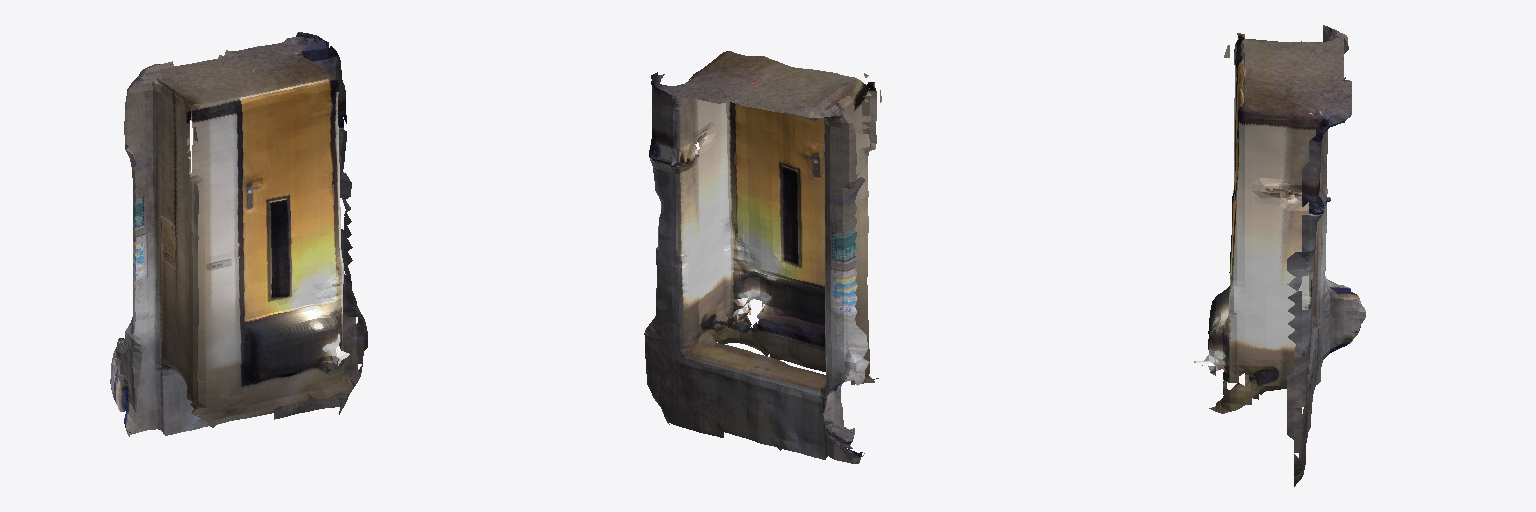
3 renders of one model, left to right at view 1: azimuth 30°, elevation 25°; view 2: azimuth 150°, elevation 25°; view 3: azimuth 270°, elevation 25°, orthographic.
Size of the model in its own units: 2.41 by 3.71 by 1.55.
1 materials, 1 textured.